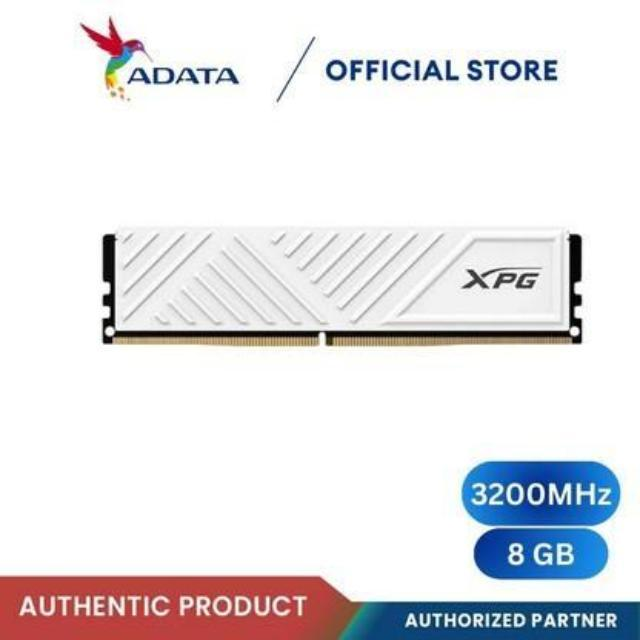RAM: (96, 226, 590, 358)
